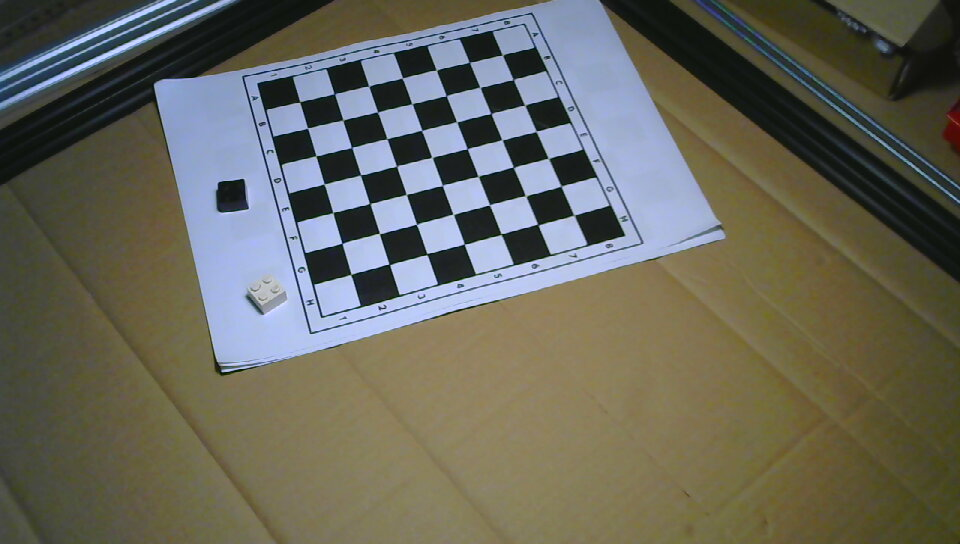bp: (216, 179, 249, 212)
wp: (246, 273, 287, 314)
